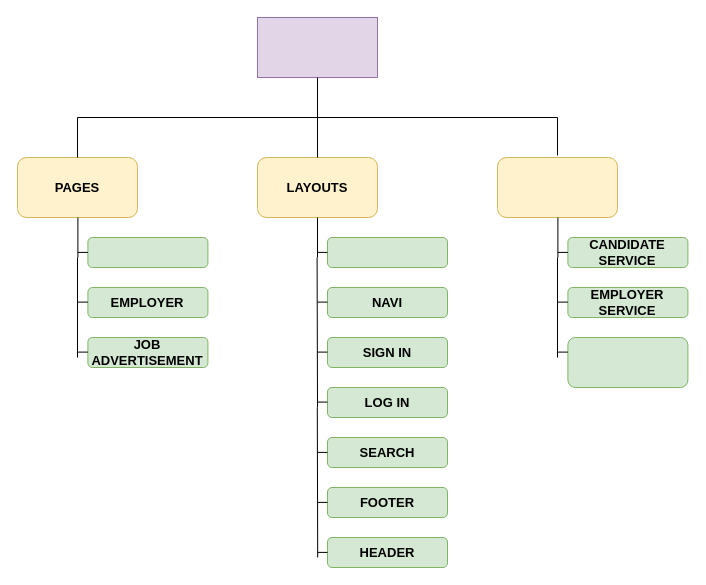
This 706x585 diagram has some shape labels left out. The shapes that lost their labels are listed below. From the top down, each one's centre as x and y in pixels, then its label:
(317,47): APP
(557,187): SERVICES
(147,252): CANDIDATE
(387,252): DASHBOARD
(627,362): JOB ADVERTISEMENT SERVICE
